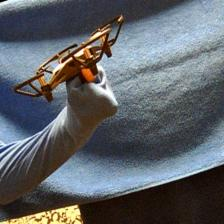drone: (12, 13, 123, 104)
